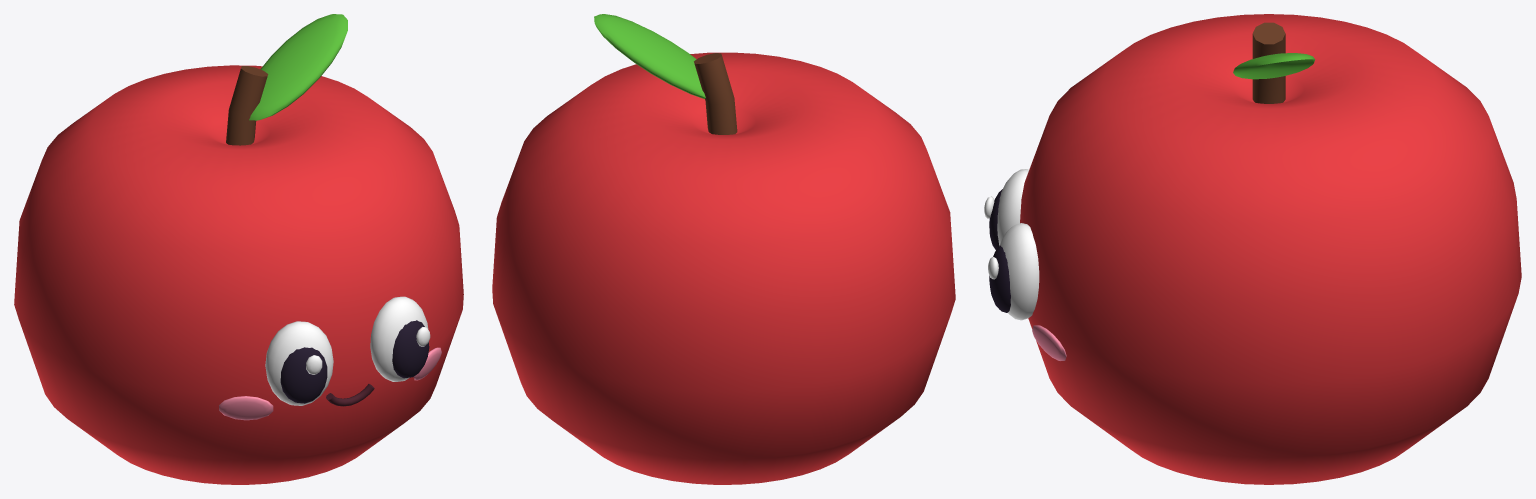
The model's file is Apple.fbx.
3 views of the same model, side by side, from view 1: azimuth 30°, elevation 25°; view 2: azimuth 150°, elevation 25°; view 3: azimuth 270°, elevation 25° (orthographic). The views are drawn at different scales.
Parts seen in each view (by area): view 1: Body_E8383D, Leaf_5BBF3A, Eyes_FFFFFF, Pupils_241B2F, Stem_6B3E26, Blush_FF8FAB, Shine_FFFFFF_Neon; view 2: Body_E8383D, Leaf_5BBF3A, Stem_6B3E26; view 3: Body_E8383D, Eyes_FFFFFF, Stem_6B3E26, Leaf_5BBF3A, Pupils_241B2F, Blush_FF8FAB.
Boxes of the visible parts, x1=… form: Body_E8383D: x1=14, y1=65, x2=463, y2=484; Leaf_5BBF3A: x1=249, y1=14, x2=347, y2=120; Eyes_FFFFFF: x1=265, y1=296, x2=428, y2=405; Pupils_241B2F: x1=280, y1=320, x2=429, y2=403; Stem_6B3E26: x1=226, y1=66, x2=268, y2=145; Blush_FF8FAB: x1=219, y1=347, x2=441, y2=420; Shine_FFFFFF_Neon: x1=306, y1=327, x2=430, y2=374; Body_E8383D: x1=492, y1=52, x2=955, y2=484; Leaf_5BBF3A: x1=594, y1=14, x2=705, y2=98; Stem_6B3E26: x1=694, y1=53, x2=737, y2=134; Body_E8383D: x1=1020, y1=14, x2=1521, y2=484; Eyes_FFFFFF: x1=997, y1=169, x2=1039, y2=320; Stem_6B3E26: x1=1252, y1=22, x2=1285, y2=103; Leaf_5BBF3A: x1=1233, y1=53, x2=1315, y2=79; Pupils_241B2F: x1=989, y1=189, x2=1010, y2=312; Blush_FF8FAB: x1=1032, y1=325, x2=1066, y2=360.
Bounding box in the file's own units: 2 × 1.87 × 2.13.
